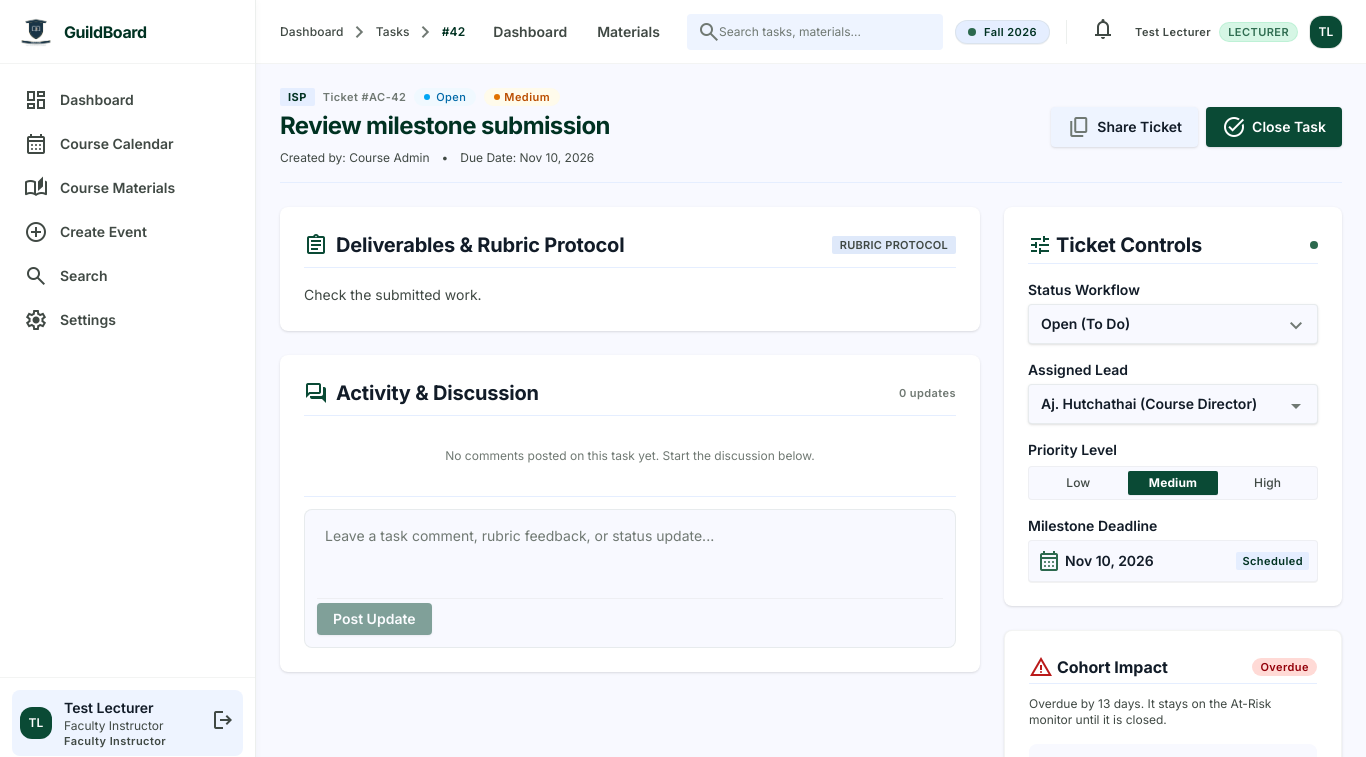
Test case: TicketDetail failure handling › keeps the saved status after a failed update and allows retry
Check: the heading "Review milestone submission" is shown, box left=280, top=110, right=610, bottom=142
Select "In-Progress" in the dropdown below "Status Workflow" at (1173,324), box left=1028, top=304, right=1318, bottom=344
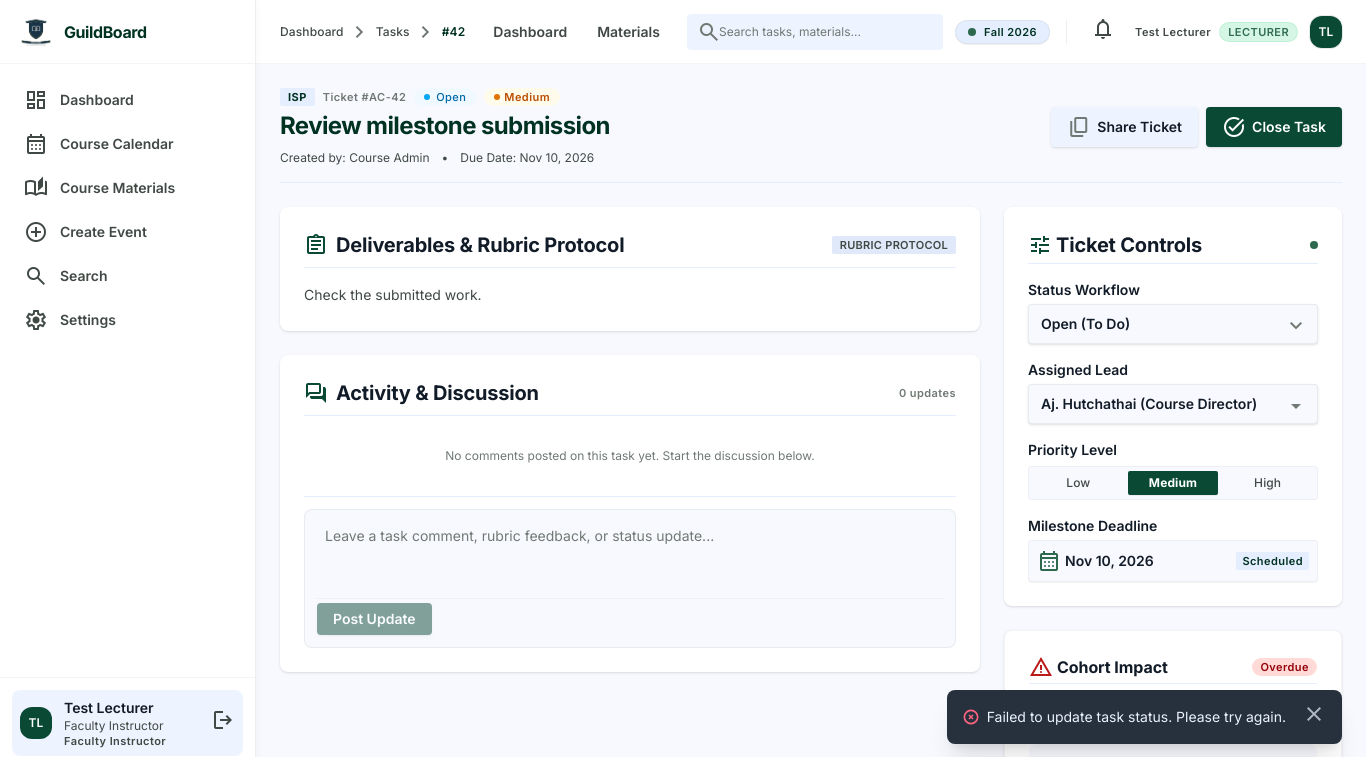
Check: the message reads "Failed to update task status. Please try again.", box left=987, top=708, right=1286, bottom=725
Select "In-Progress" in the dropdown below "Status Workflow" at (1173,324), box left=1028, top=304, right=1318, bottom=344
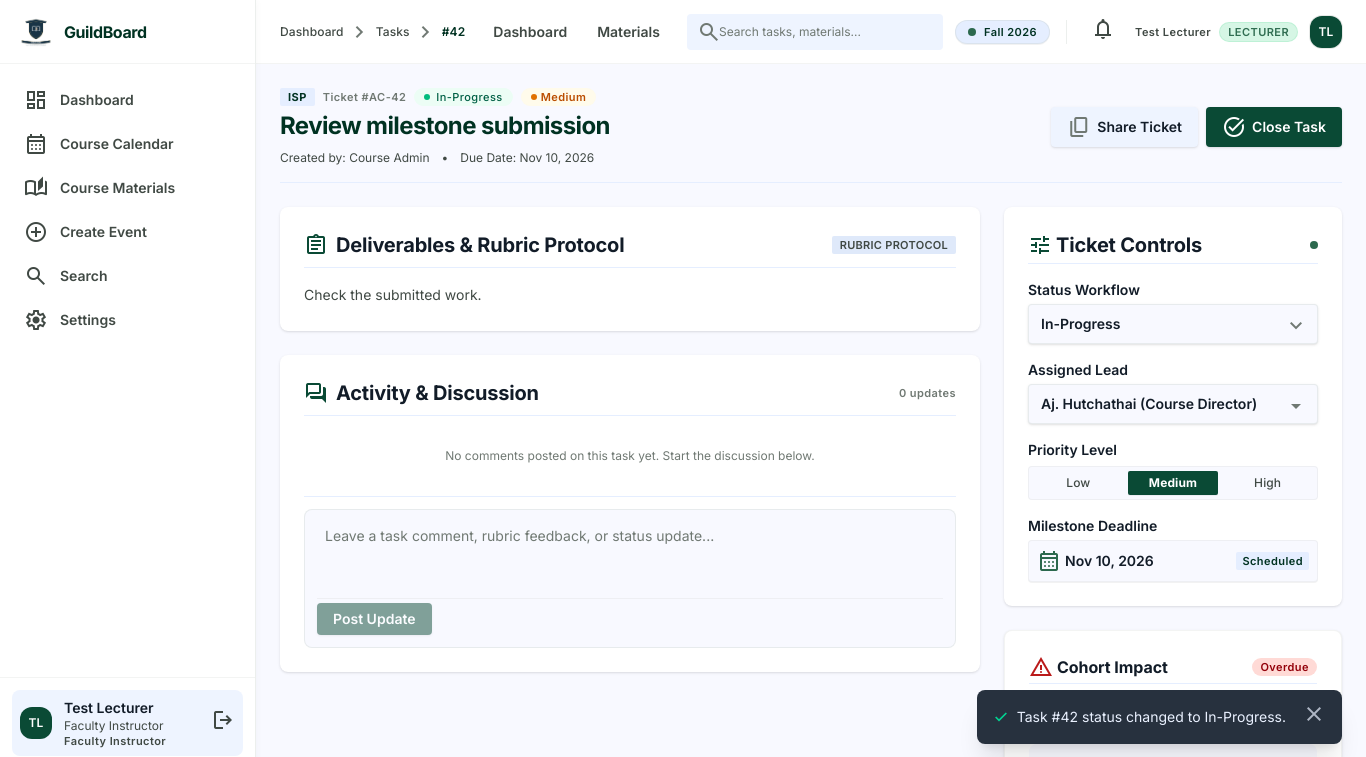
Check: the message reads "Task #42 status changed to In-Progress.", box left=1017, top=708, right=1286, bottom=725
